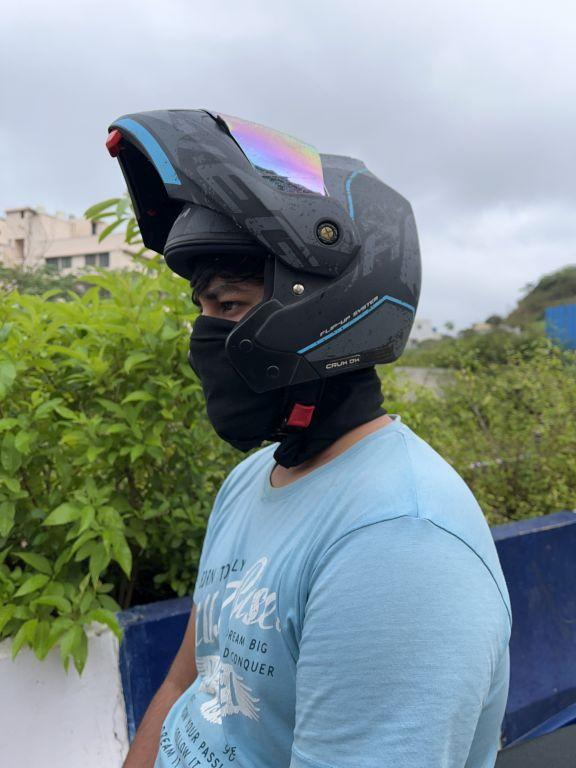helmet: (87, 99, 436, 457)
